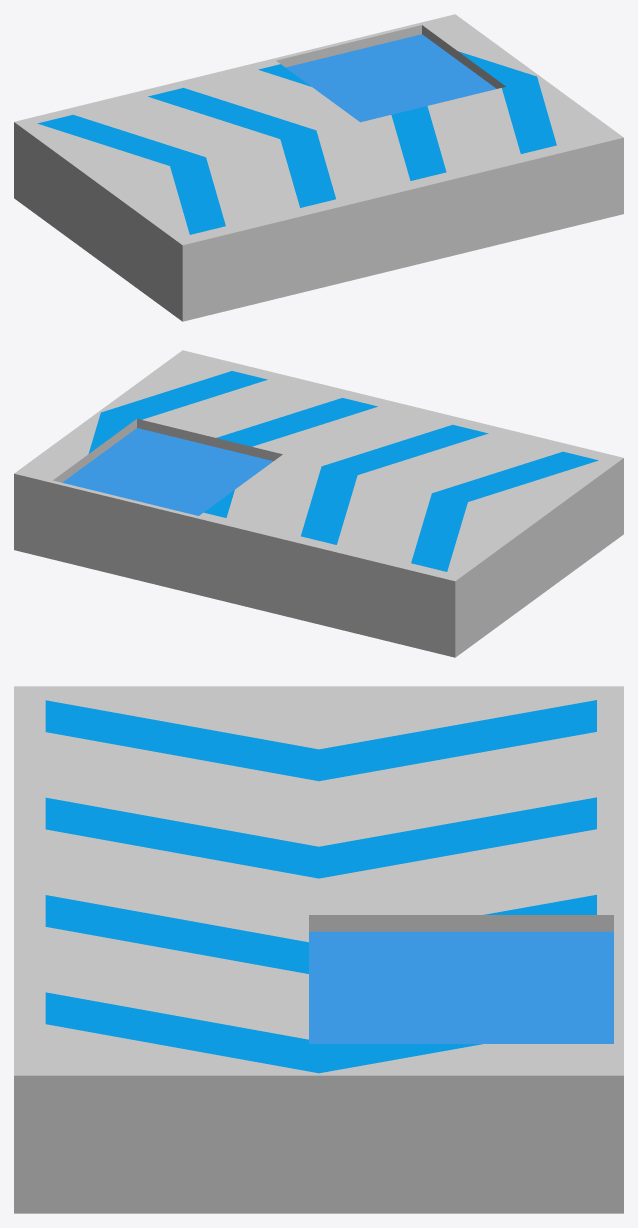
Rendered from platformwithwater.fbx.
3 views of the same model, one above another, from view 1: azimuth 30°, elevation 25°; view 2: azimuth 150°, elevation 25°; view 3: azimuth 270°, elevation 25° (orthographic). The views are drawn at different scales.
Visible parts, largest first — view 1: bridge water left; view 2: bridge water left; view 3: bridge water left.
Boxes of the visible parts, x1,y1,x2,y2 form: bridge water left: (14, 14, 623, 321); bridge water left: (14, 350, 623, 657); bridge water left: (14, 686, 623, 1213).
Size of the model in its own units: 604 by 100 by 400.
